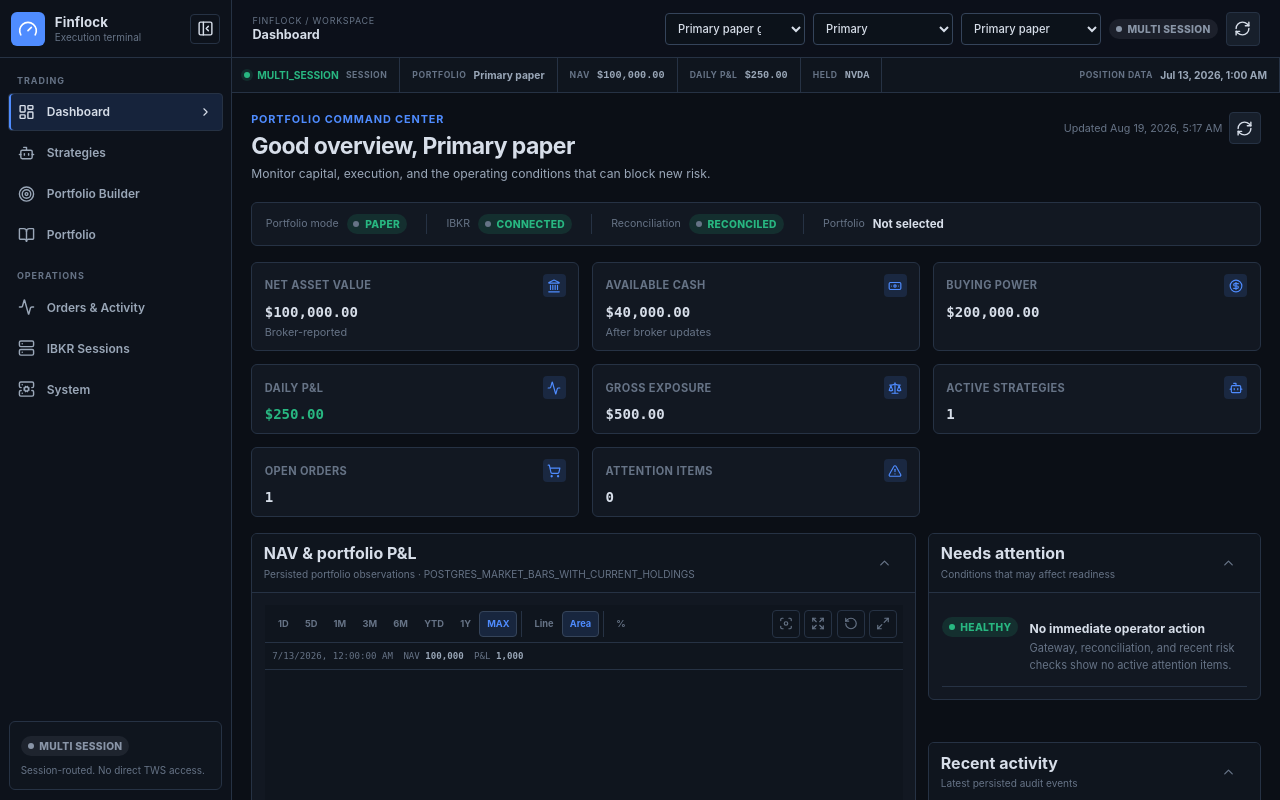
Test: selected account updates the available portfolio context
Expected: the dropdown named "Selected portfolio" shows "Primary paper", 961,12 -> 1101,44
Select "Secondary" in the dropdown named "Selected account": (883, 28) 813,12 -> 953,44
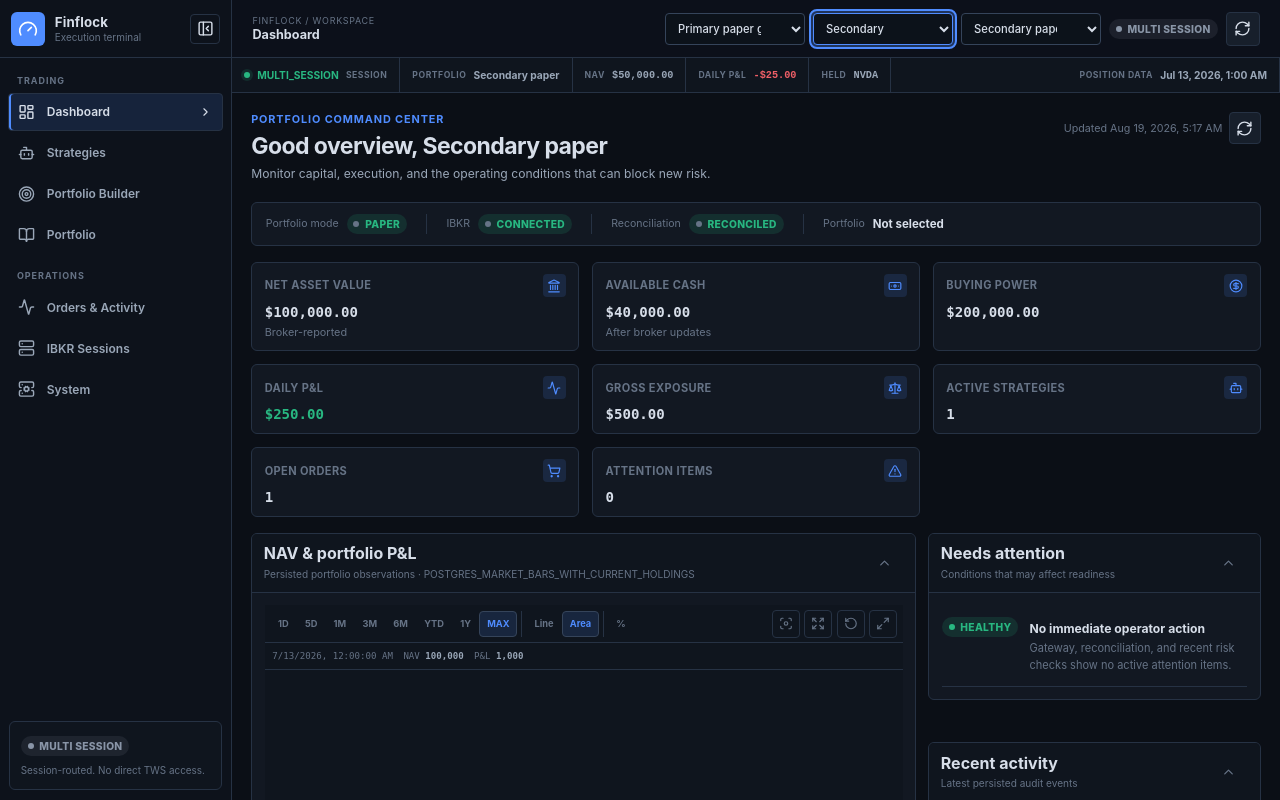
Now the dropdown named "Selected portfolio" shows "Secondary paper", box 961,12 -> 1101,44
